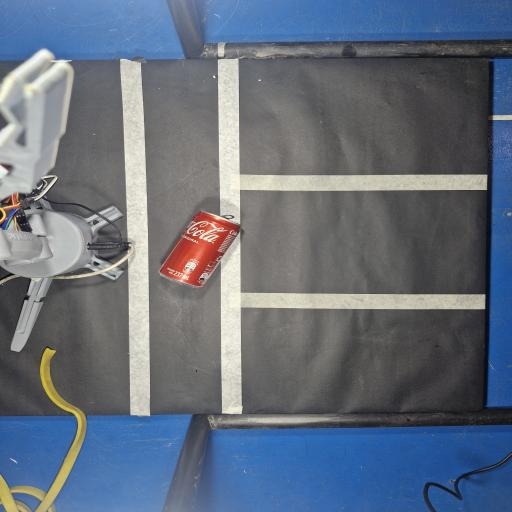lata: (159, 211, 240, 288)
